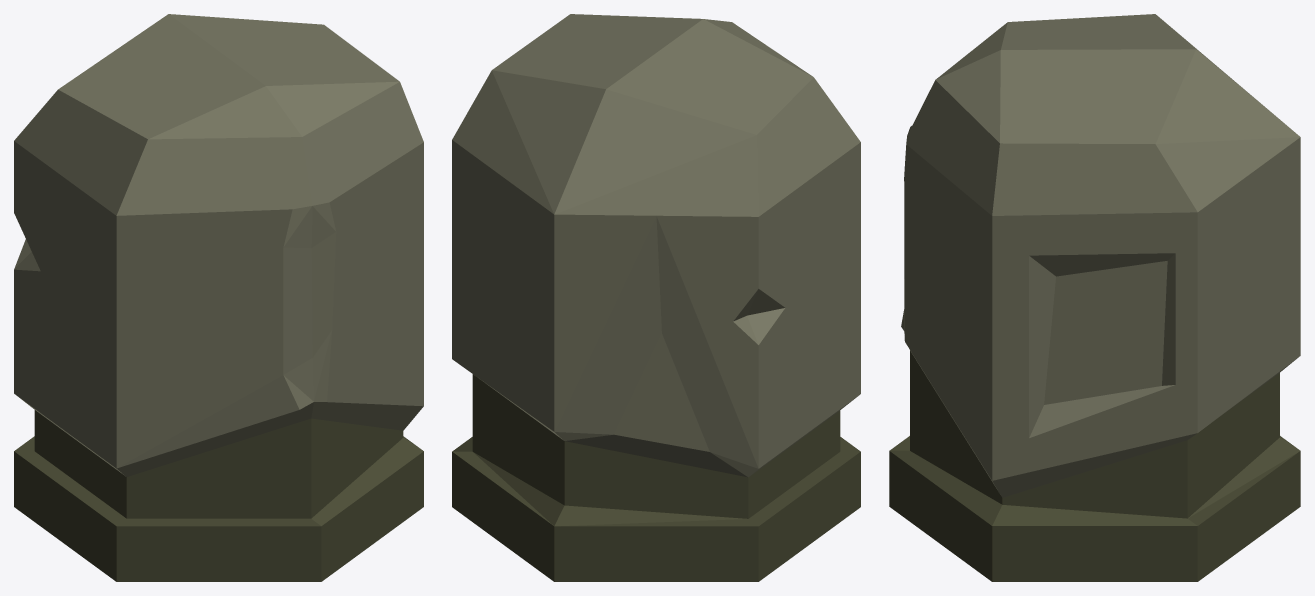
Rendered from GroundBlock(0).fbx.
3 views of the same model, side by side, from view 1: azimuth 30°, elevation 25°; view 2: azimuth 150°, elevation 25°; view 3: azimuth 270°, elevation 25° (orthographic).
Visible parts, largest first — view 1: Block1; view 2: Block1; view 3: Block1.
Boxes of the visible parts, x1,y1,x2,y2 form: Block1: (14, 14, 423, 581); Block1: (452, 14, 860, 581); Block1: (889, 14, 1300, 581).
Bounding box in the file's own units: 1.73 × 2 × 2.45.
